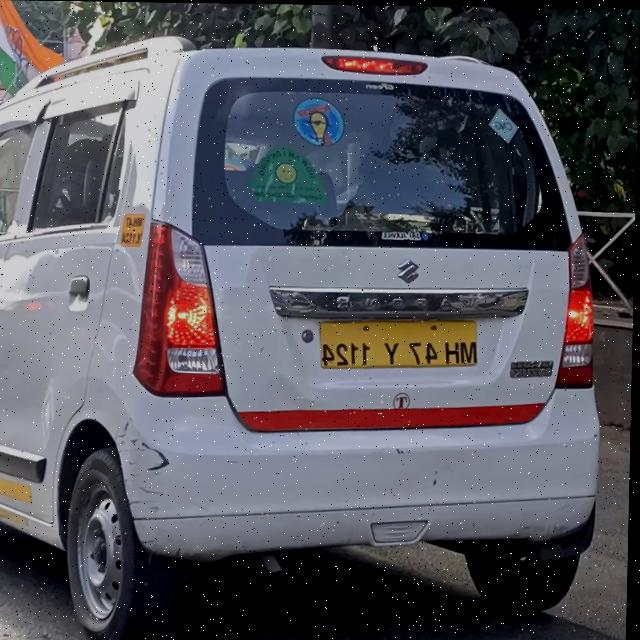plate: (317, 315, 482, 374)
